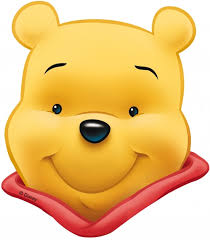Winnie: (3, 2, 209, 240)
